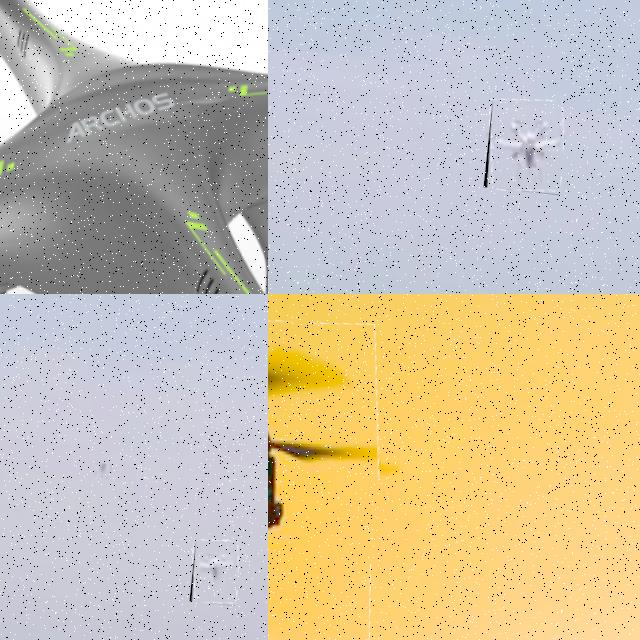drone: (0, 0, 268, 294), (268, 296, 394, 640), (483, 95, 568, 195), (188, 538, 242, 606)
